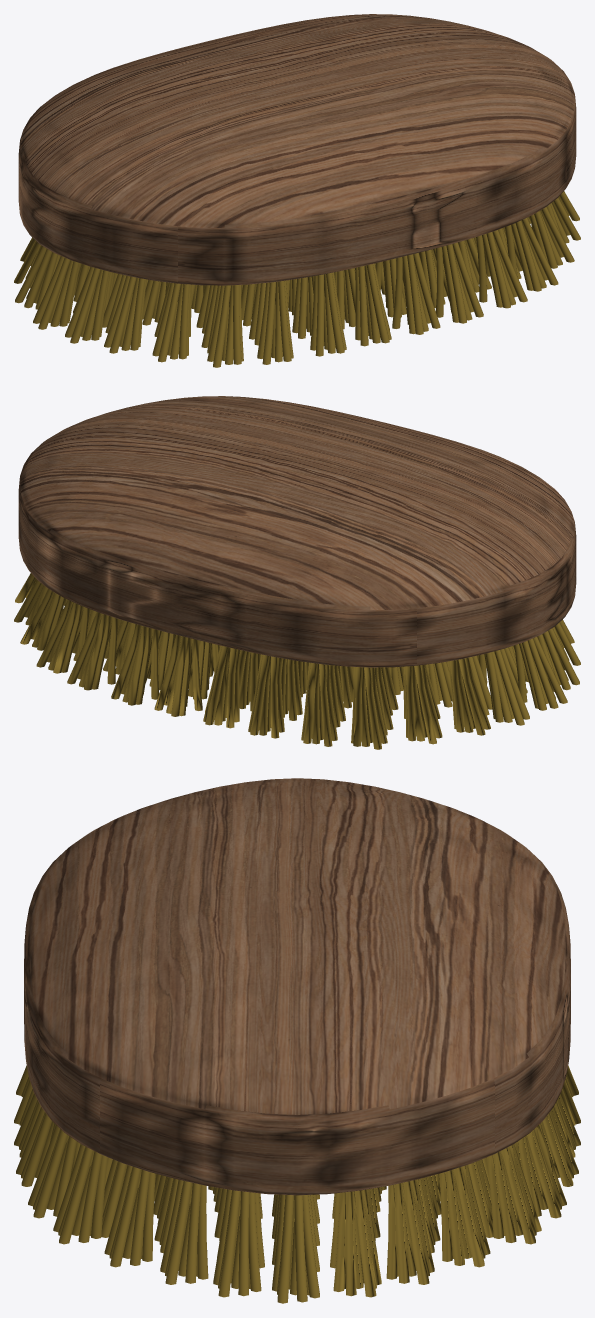
File: Spazzola.fbx
3 renders of one model, top to bottom at view 1: azimuth 30°, elevation 25°; view 2: azimuth 150°, elevation 25°; view 3: azimuth 270°, elevation 25°, orthographic. The views are drawn at different scales.
Visible parts, largest first — view 1: spazzola; view 2: spazzola; view 3: spazzola.
Boxes of the visible parts, x1,y1,x2,y2 form: spazzola: (14, 14, 580, 367); spazzola: (14, 396, 580, 749); spazzola: (14, 778, 580, 1303).
Bounding box in the file's own units: 762 × 260 × 534.
